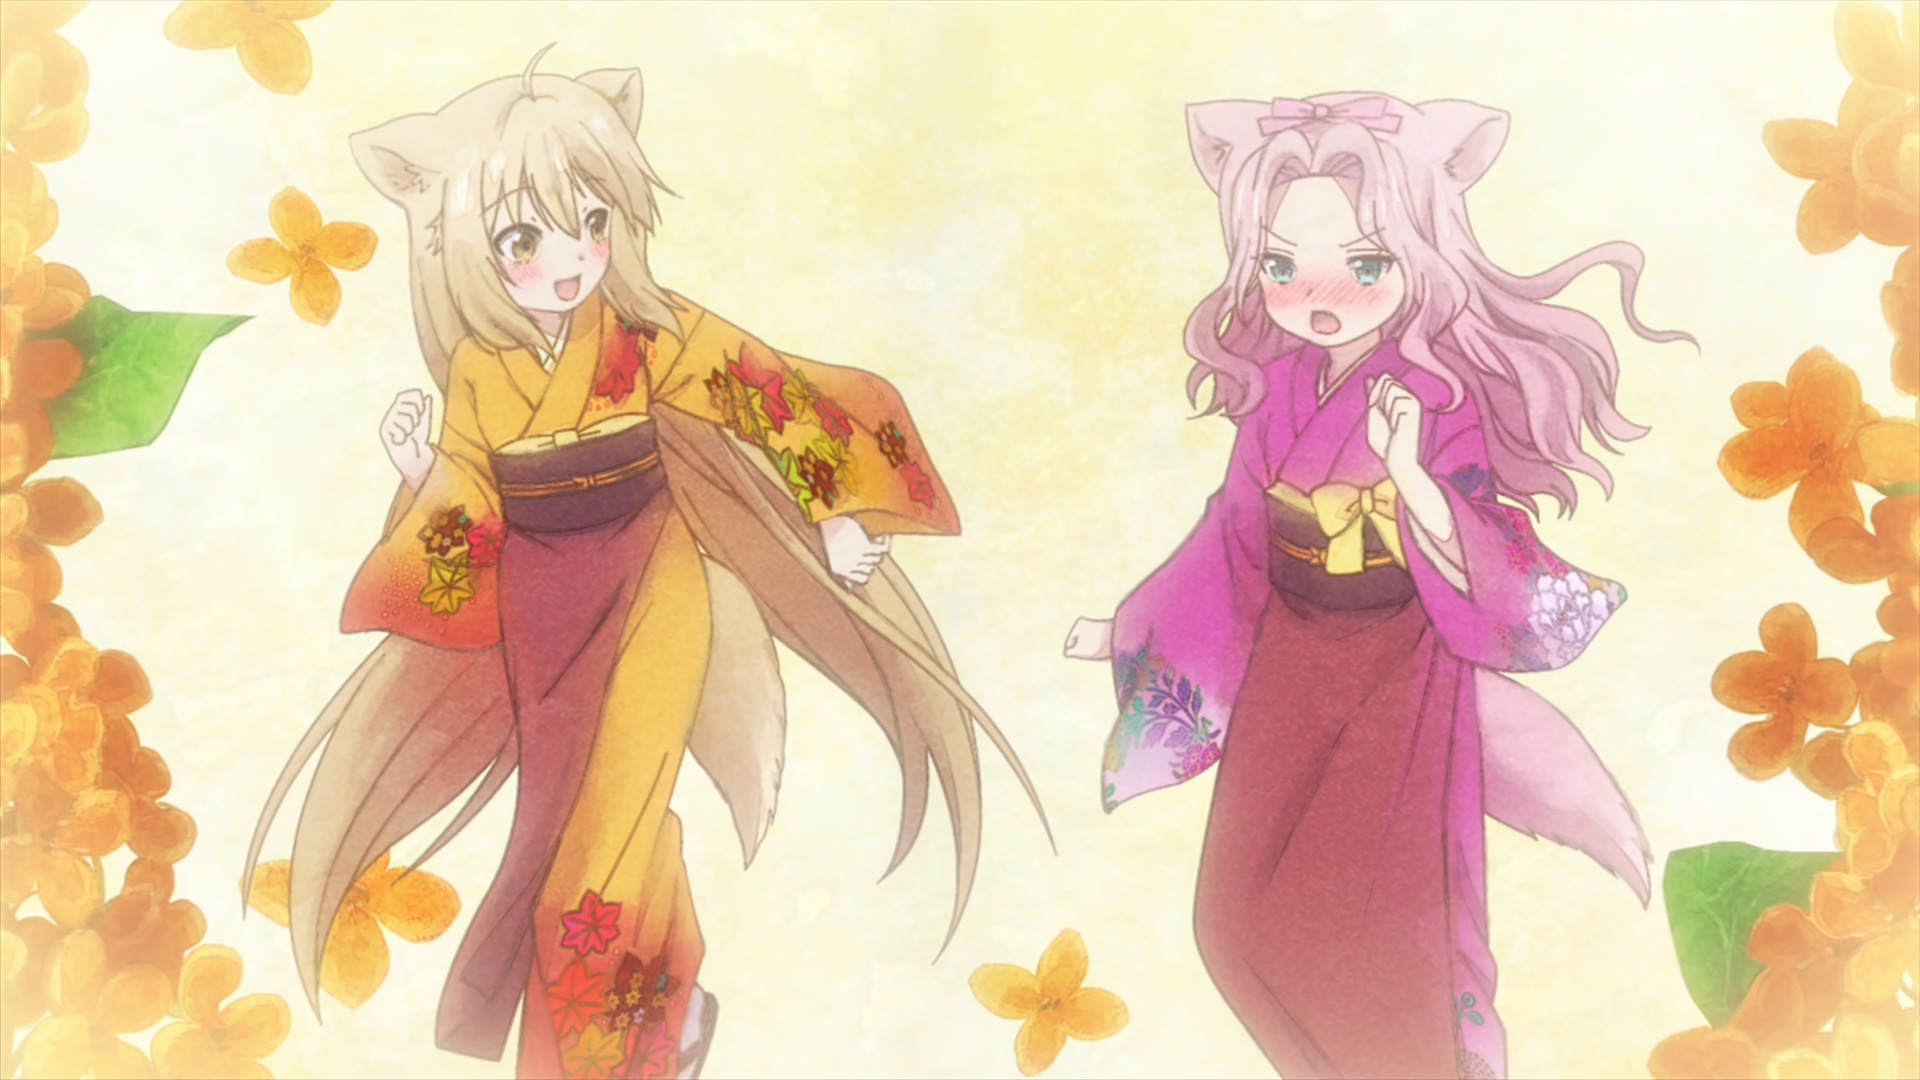柚: (243, 44, 1059, 1080)
莲: (1063, 95, 1705, 1080)
